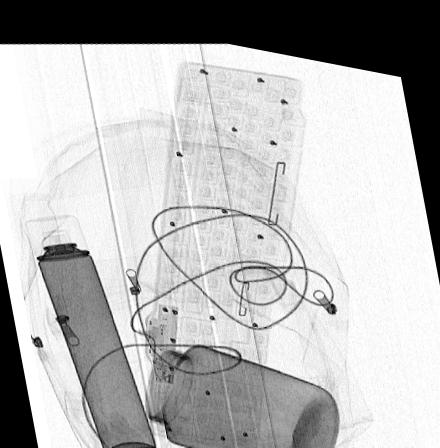Sprayer: (24, 210, 159, 448)
